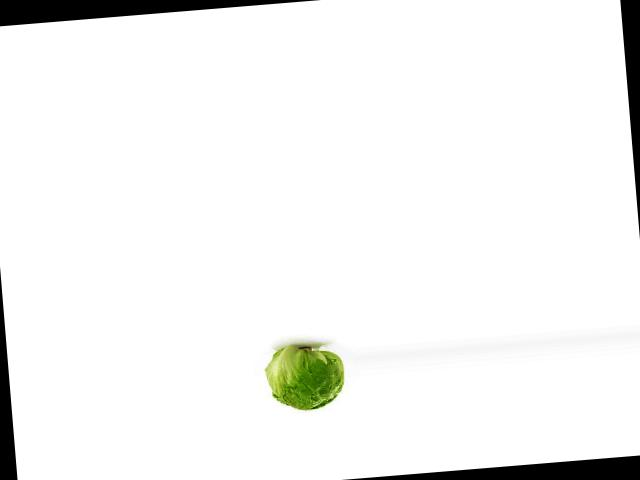lettuce: (263, 345, 356, 415)
